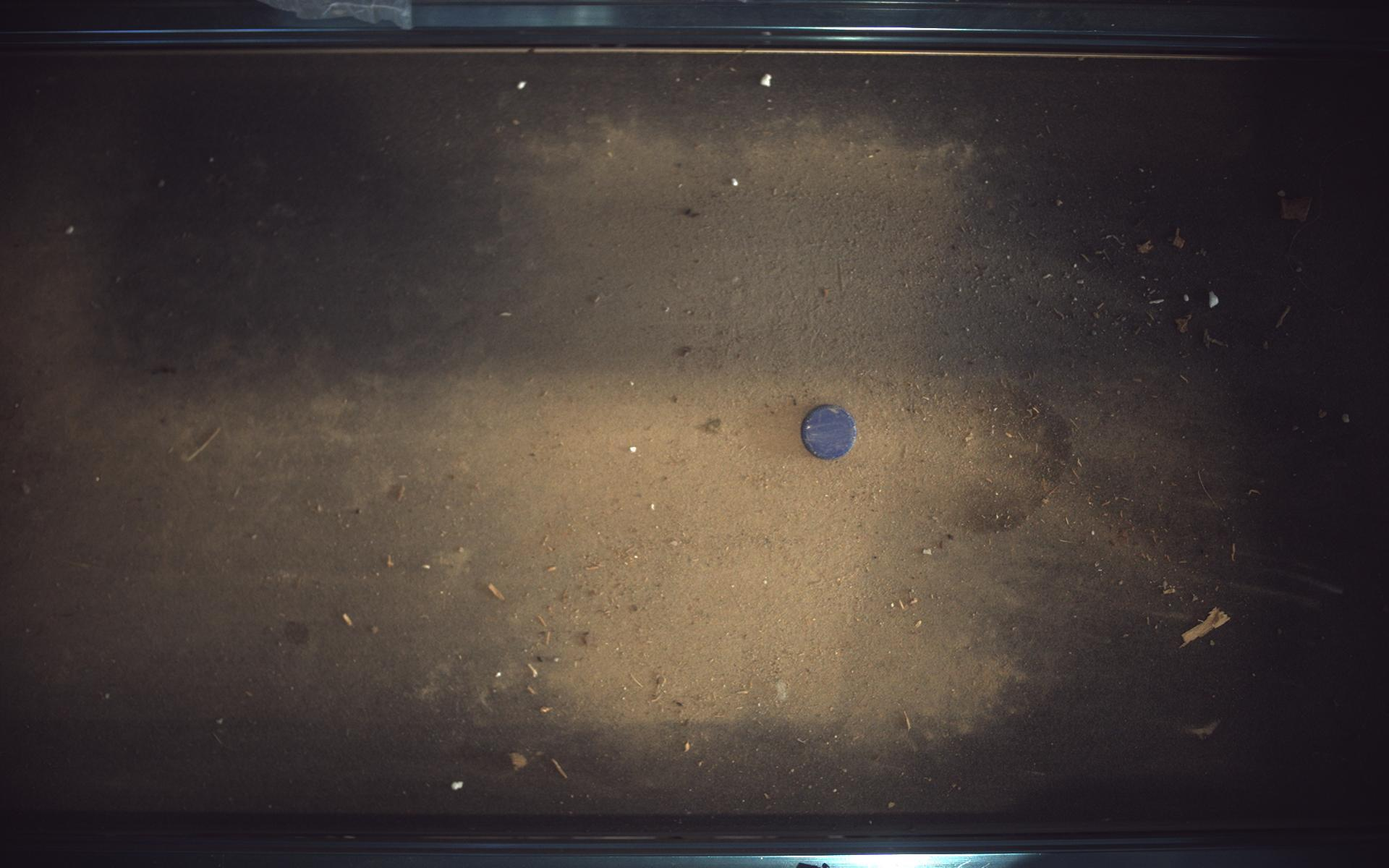general_w: (803, 405, 859, 460)
